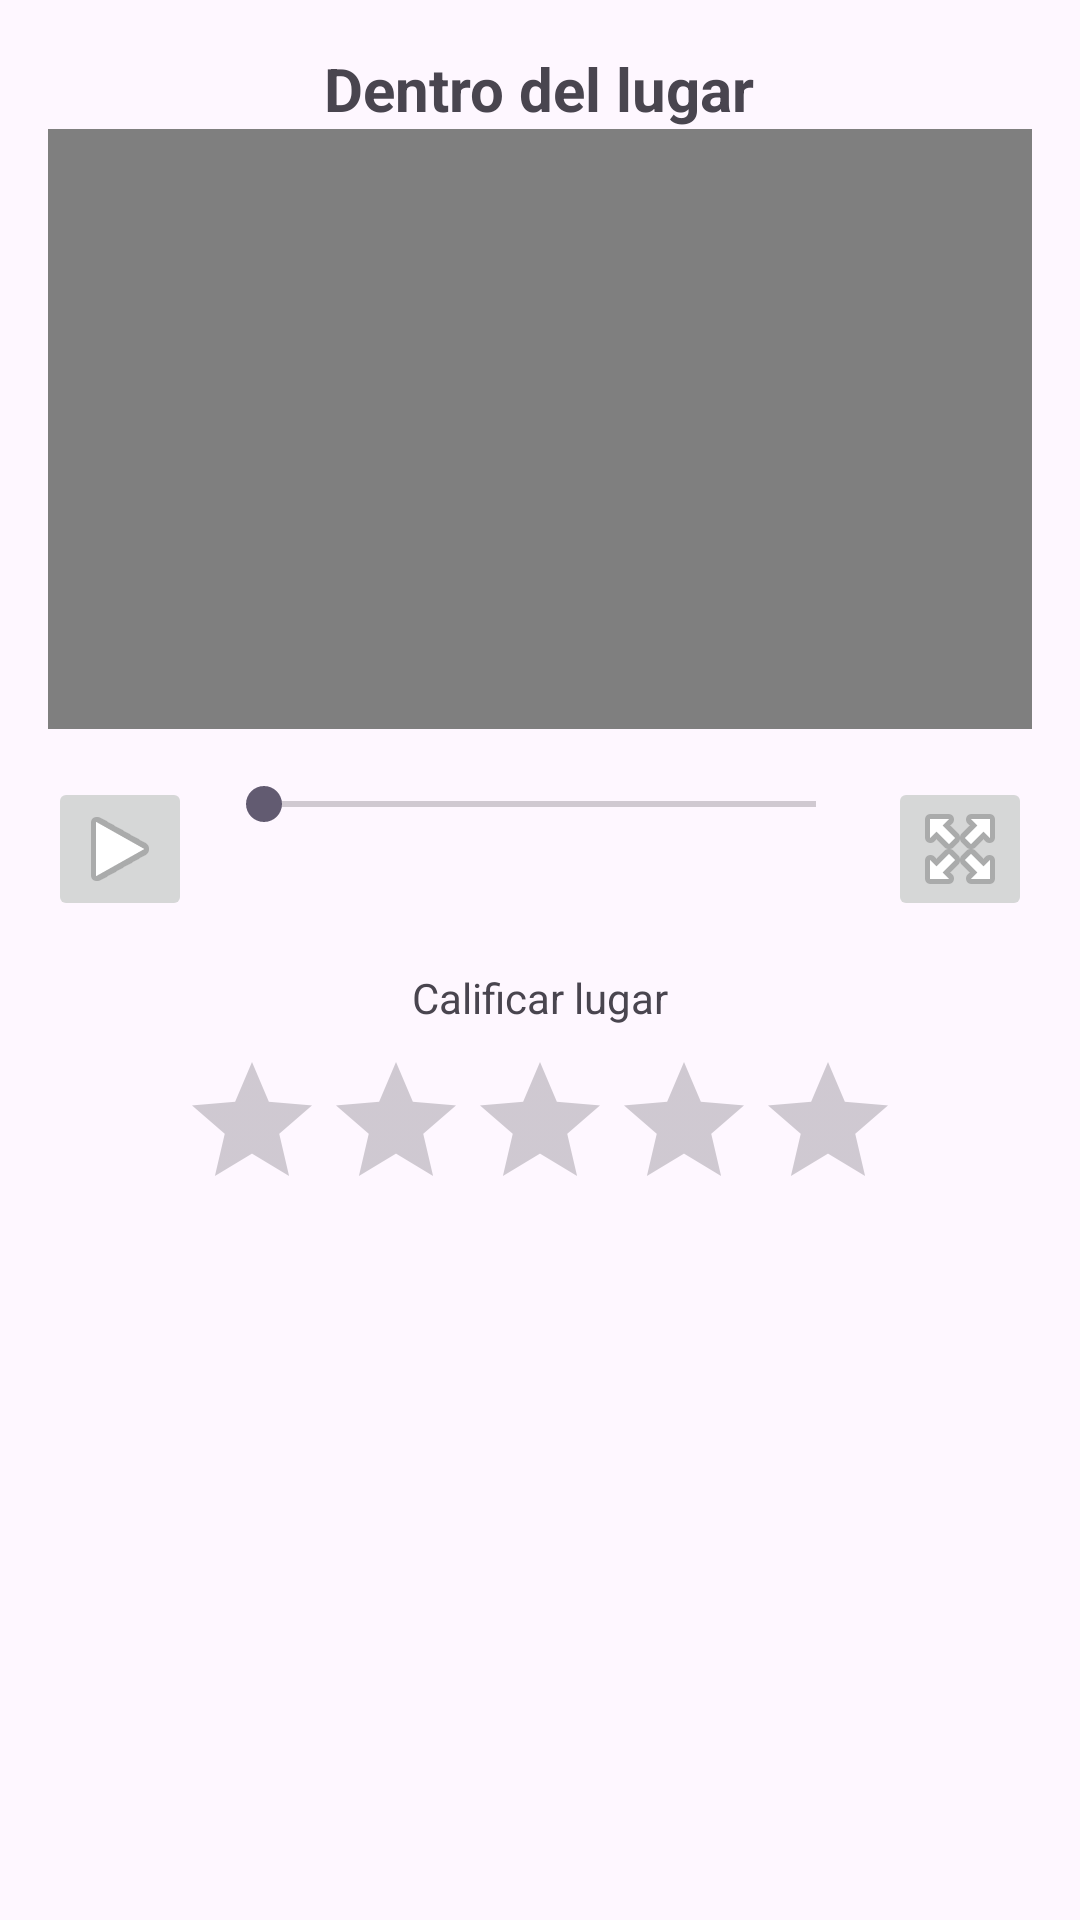

Icon click points for this 1080 × 1920 phone screenshot, format [x,y]:
Pantalla Completa: [960,849]
Reproducir/Pausar: [120,849]
